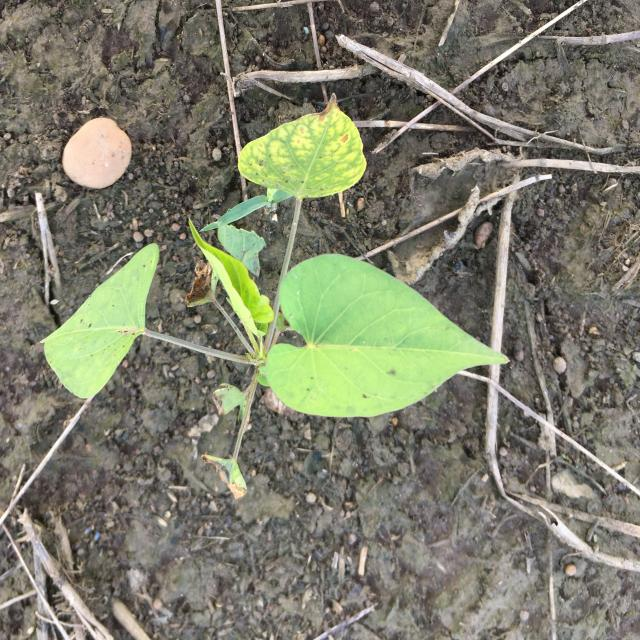MorningGlory: (41, 96, 509, 496)
